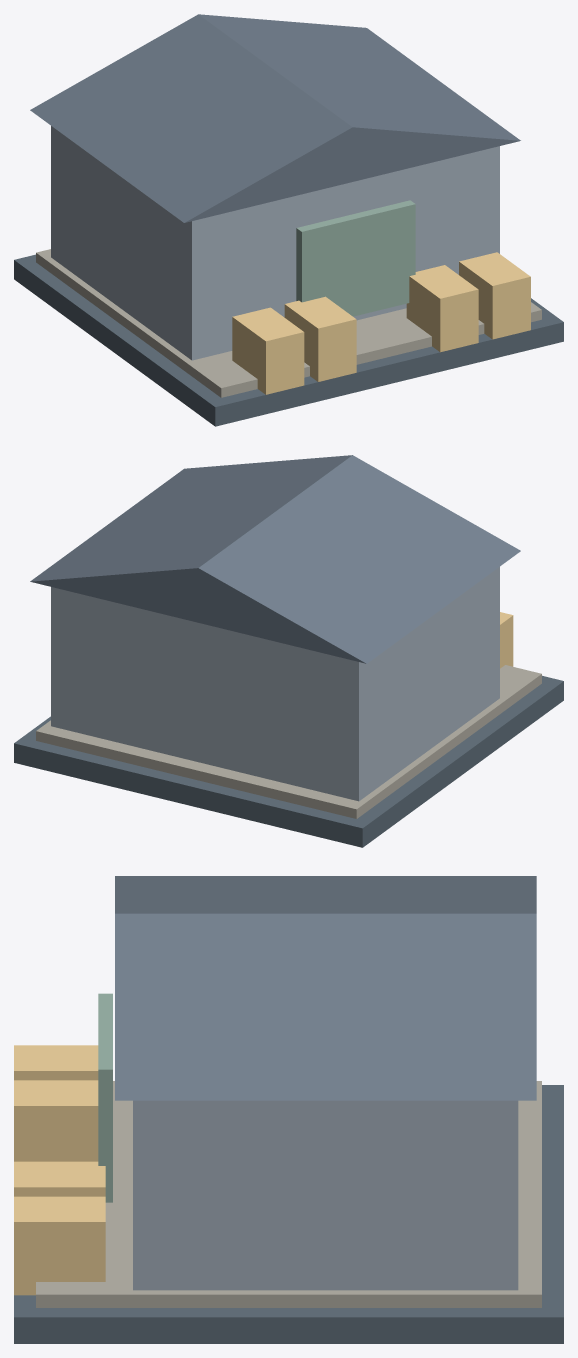
File: supply-depot.glb
3 renders of one model, top to bottom at view 1: azimuth 30°, elevation 25°; view 2: azimuth 150°, elevation 25°; view 3: azimuth 270°, elevation 25°, orthographic. The views are drawn at different scales.
Parts seen in each view (by area): view 1: Dépôt de ravitaillement; view 2: Dépôt de ravitaillement; view 3: Dépôt de ravitaillement.
Part boxes in pixels (x1,y1,x2,y2): Dépôt de ravitaillement: (14, 14, 563, 426); Dépôt de ravitaillement: (14, 455, 563, 847); Dépôt de ravitaillement: (14, 876, 563, 1343).
Size of the model in its own units: 3 by 1.89 by 3.
